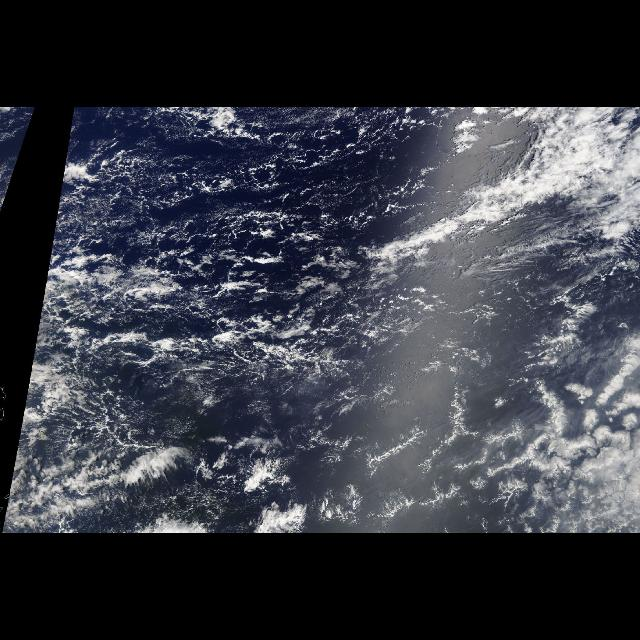Gravel: (59, 109, 518, 531)
